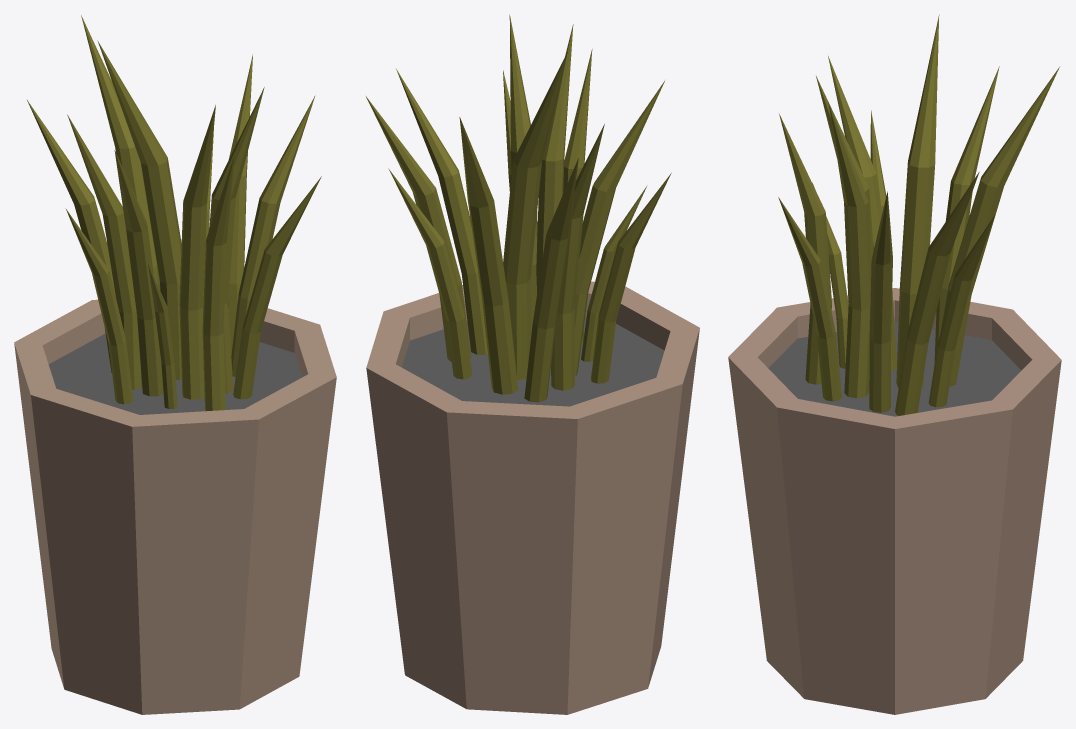
Rendered from Flower_54.fbx.
3 views of the same model, side by side, from view 1: azimuth 30°, elevation 25°; view 2: azimuth 150°, elevation 25°; view 3: azimuth 270°, elevation 25° (orthographic). The views are drawn at different scales.
Visible parts, largest first — view 1: Flower_54; view 2: Flower_54; view 3: Flower_54.
Part boxes in pixels (x1=…): Flower_54: x1=14, y1=15, x2=336, y2=714; Flower_54: x1=366, y1=14, x2=699, y2=714; Flower_54: x1=728, y1=14, x2=1061, y2=714.
Bounding box in the file's own units: 22.5 × 22.5 × 46.1.
